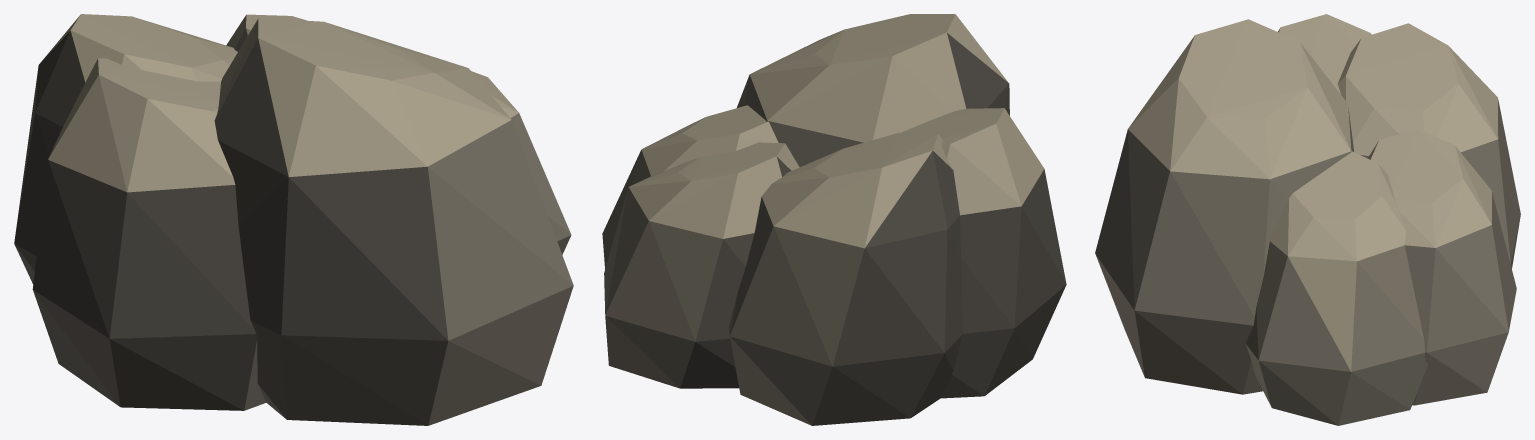
Rendered from TW_ROCK_CLUSTER_LARGE_A_LOD0.glb.
3 renders of one model, left to right at view 1: azimuth 30°, elevation 25°; view 2: azimuth 150°, elevation 25°; view 3: azimuth 270°, elevation 25°, orthographic. The views are drawn at different scales.
Parts seen in each view (by area): view 1: TW_ROCK_CLUSTER_LARGE_A_LOD0; view 2: TW_ROCK_CLUSTER_LARGE_A_LOD0; view 3: TW_ROCK_CLUSTER_LARGE_A_LOD0.
Part boxes in pixels (x1=…): TW_ROCK_CLUSTER_LARGE_A_LOD0: x1=14, y1=14, x2=573, y2=425; TW_ROCK_CLUSTER_LARGE_A_LOD0: x1=602, y1=14, x2=1066, y2=425; TW_ROCK_CLUSTER_LARGE_A_LOD0: x1=1095, y1=14, x2=1520, y2=425.
Size of the model in its own units: 1.61 by 1.08 by 1.51.
1 material, 1 textured.
